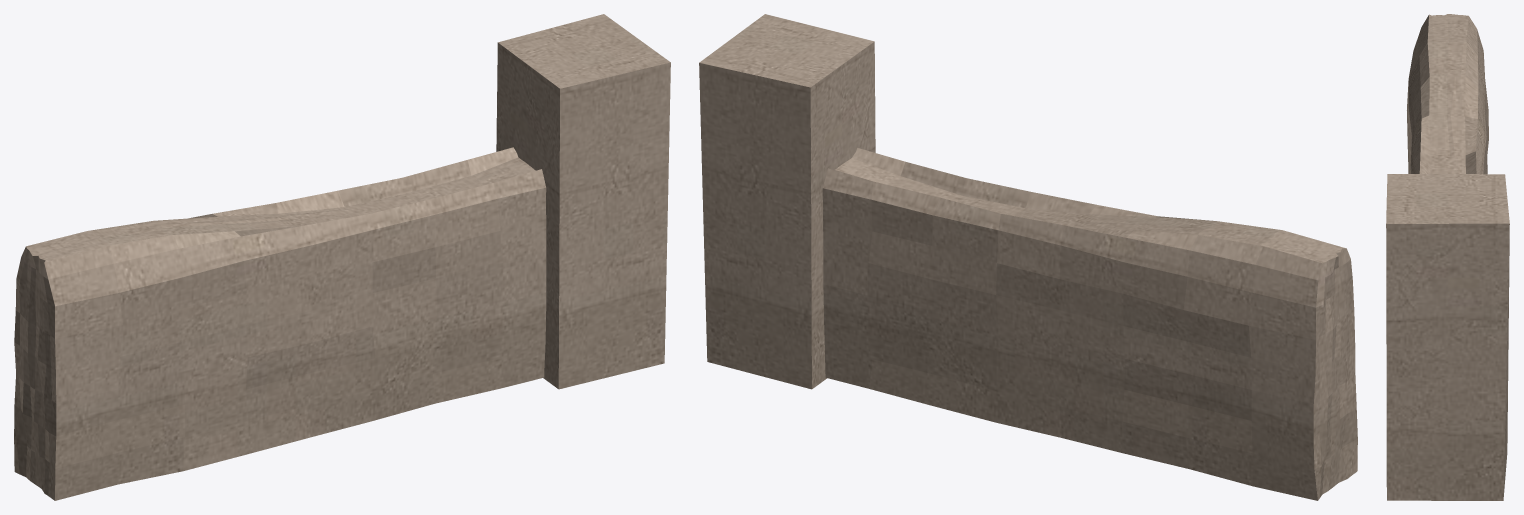
The model's file is end.glb.
3 renders of one model, left to right at view 1: azimuth 30°, elevation 25°; view 2: azimuth 150°, elevation 25°; view 3: azimuth 270°, elevation 25°, orthographic. The views are drawn at different scales.
Parts seen in each view (by area): view 1: end; view 2: end; view 3: end.
Part boxes in pixels (left/top/right/bottom): end: left=14, top=14, right=670, bottom=500; end: left=699, top=14, right=1357, bottom=500; end: left=1386, top=14, right=1509, bottom=500.
Bounding box in the file's own units: 3.34 × 1.59 × 0.6339.
1 material, 1 textured.
